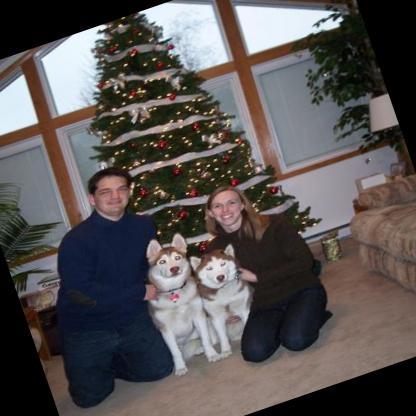Siberian_husky: (126, 228, 224, 378), (183, 239, 268, 356)
